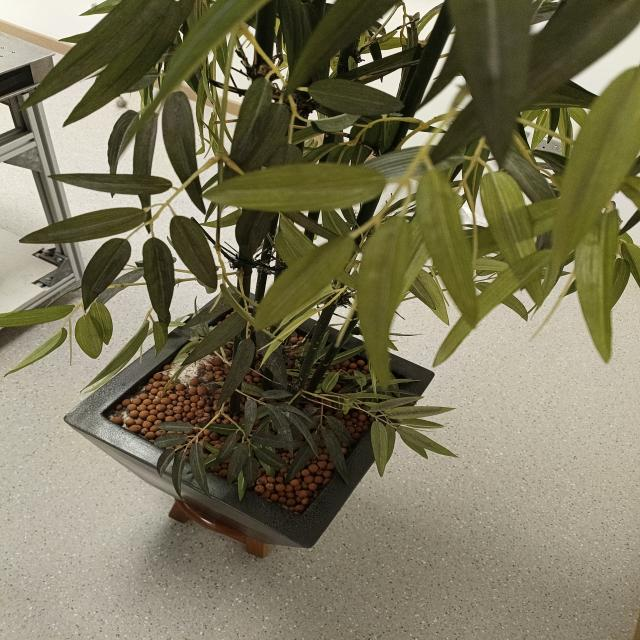Pot: (67, 283, 436, 550)
